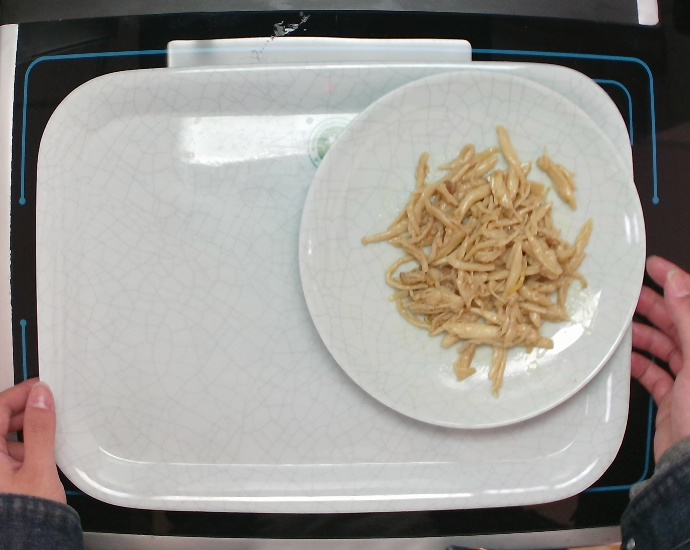JYsf-Da_Yuan_Pan: (286, 69, 654, 439)
